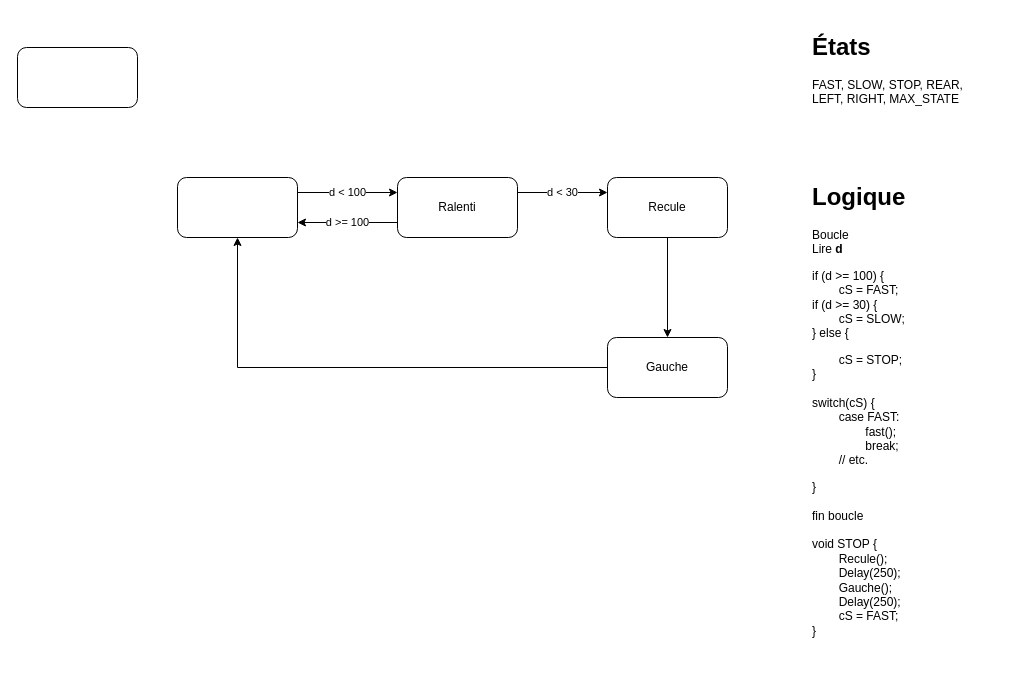
Some shapes in this 1015 by 694 pixel diagram are drawn without their labels. Here are the shapes that lost their labels. From the top down, the centre of each, then its label:
pixel 77 77: Droite
pixel 237 207: Avance
